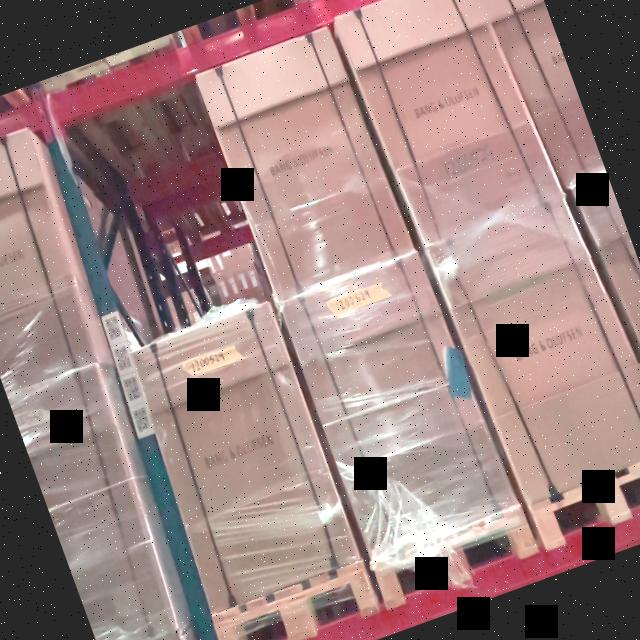box: (131, 303, 363, 615), (283, 256, 518, 553), (428, 199, 640, 503), (196, 27, 415, 302), (335, 0, 567, 243)
